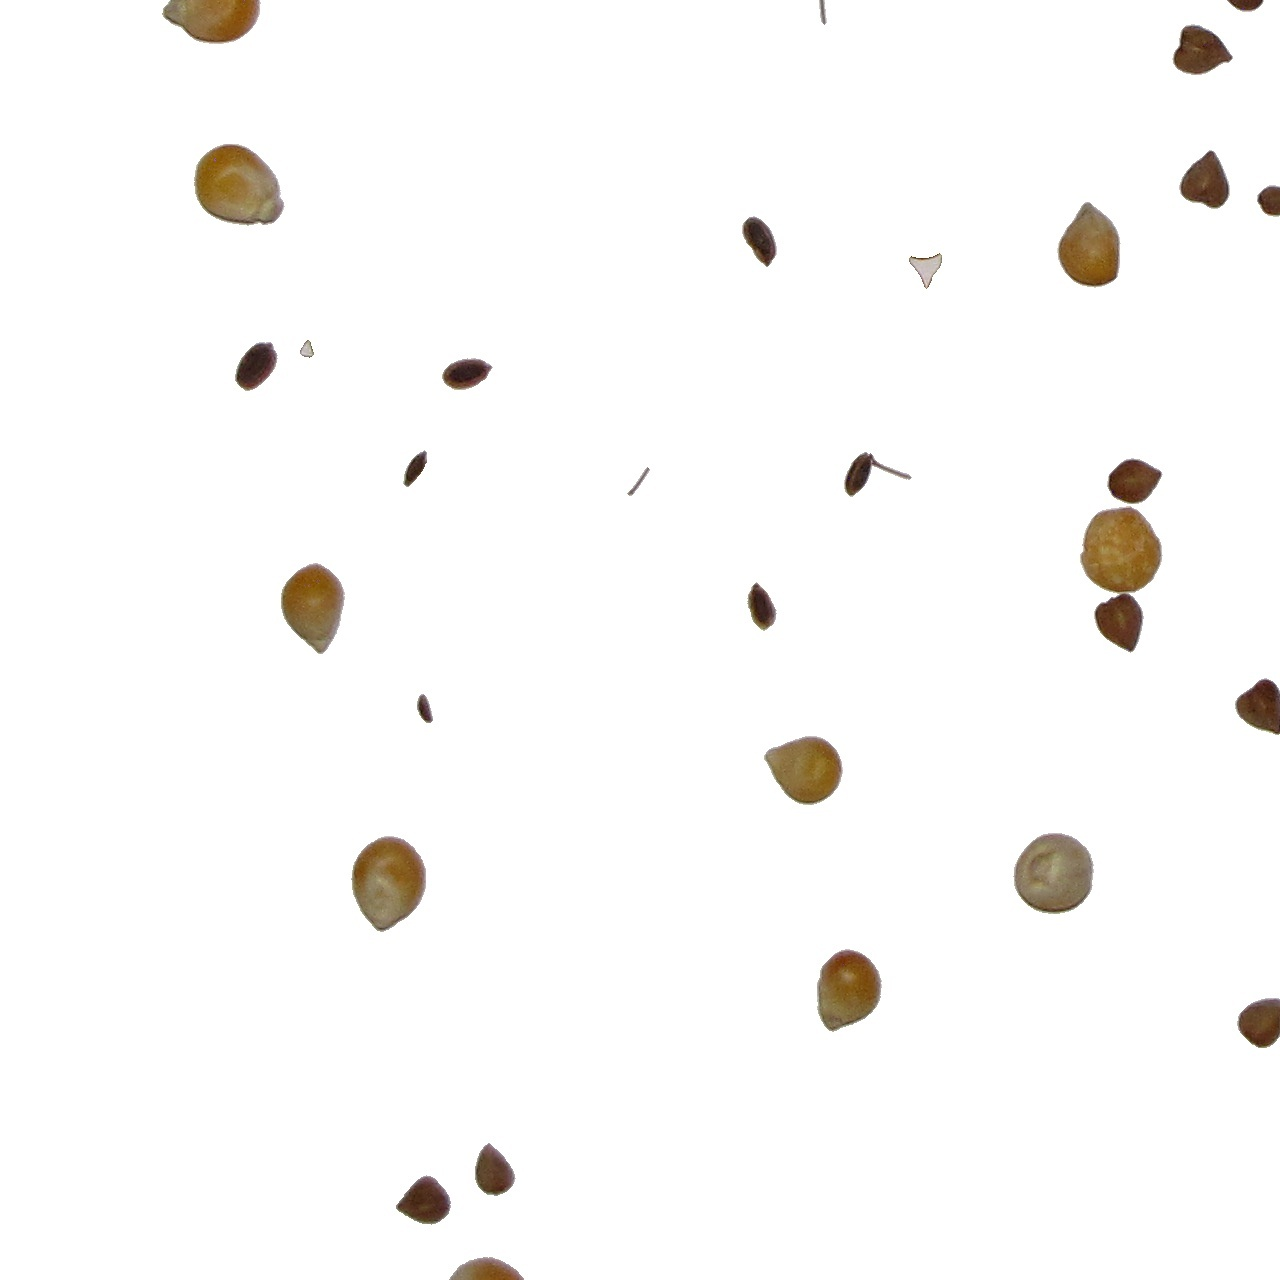buckwheat: (1092, 591, 1145, 654), (1171, 23, 1234, 76), (1178, 149, 1231, 210), (395, 1175, 452, 1226), (1107, 457, 1164, 505), (1234, 674, 1280, 733), (474, 1142, 517, 1197), (1235, 998, 1280, 1049), (234, 341, 279, 392), (741, 215, 778, 268), (441, 358, 493, 392), (745, 584, 778, 635), (406, 451, 433, 501), (908, 252, 942, 290), (626, 467, 651, 497), (299, 339, 315, 359)
dill: (843, 451, 913, 498)
mais: (193, 143, 286, 227), (1080, 505, 1164, 595), (350, 835, 427, 933), (1012, 832, 1095, 915), (280, 561, 346, 655), (1056, 200, 1122, 290), (763, 735, 844, 806), (816, 948, 883, 1033), (158, 4, 264, 49), (437, 1257, 529, 1280)
other: (1251, 184, 1280, 222), (416, 693, 434, 724)
